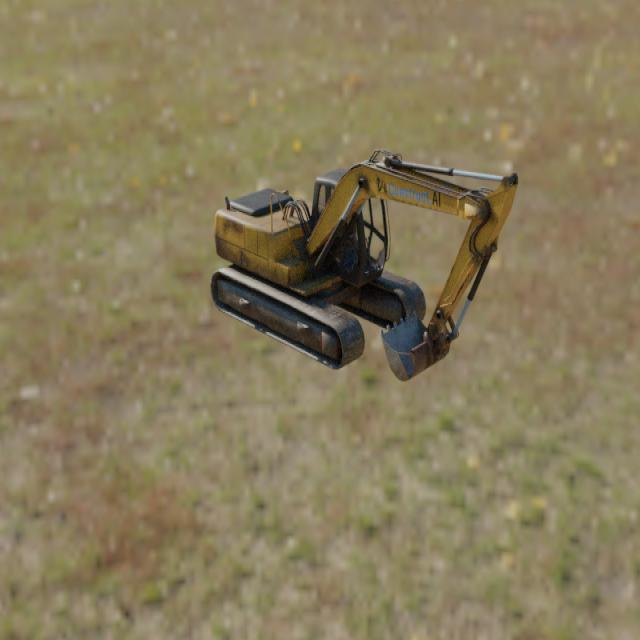excavator: (209, 148, 518, 381)
